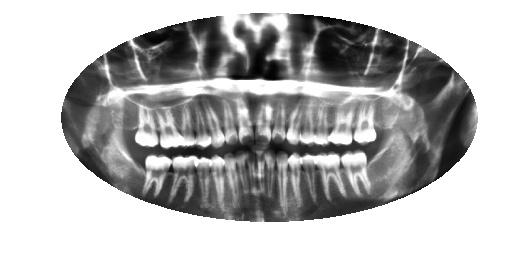Cavity: (233, 101, 254, 145), (253, 101, 273, 146), (272, 95, 286, 147), (255, 153, 269, 197), (248, 150, 258, 202)
